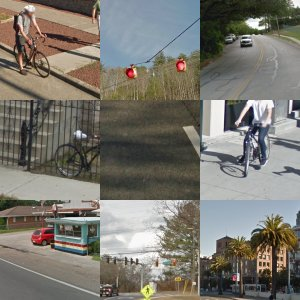公車: (129, 38, 199, 99), (116, 226, 166, 257), (46, 244, 82, 275), (80, 253, 100, 296)
汽車: (20, 248, 42, 275), (40, 153, 59, 170)
紅綠燈: (14, 124, 52, 135), (86, 109, 99, 123)
自行車: (113, 135, 176, 173)
行人穿越道: (271, 31, 299, 64)
